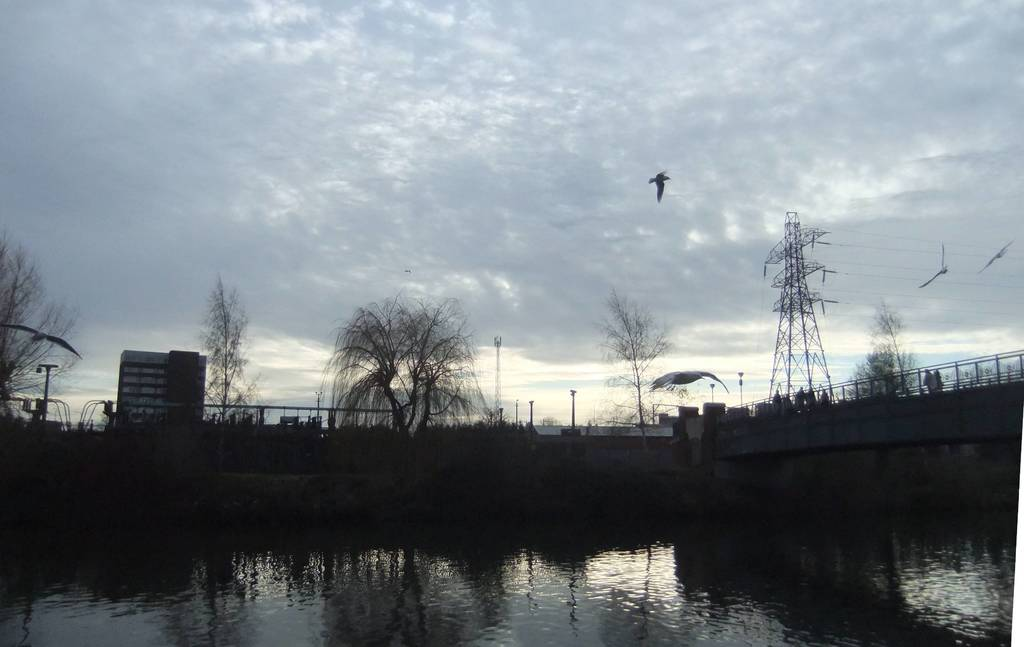Tree: (322, 286, 496, 453), (0, 224, 88, 422), (587, 291, 666, 430), (193, 274, 247, 426), (864, 302, 910, 389), (846, 342, 910, 396)
